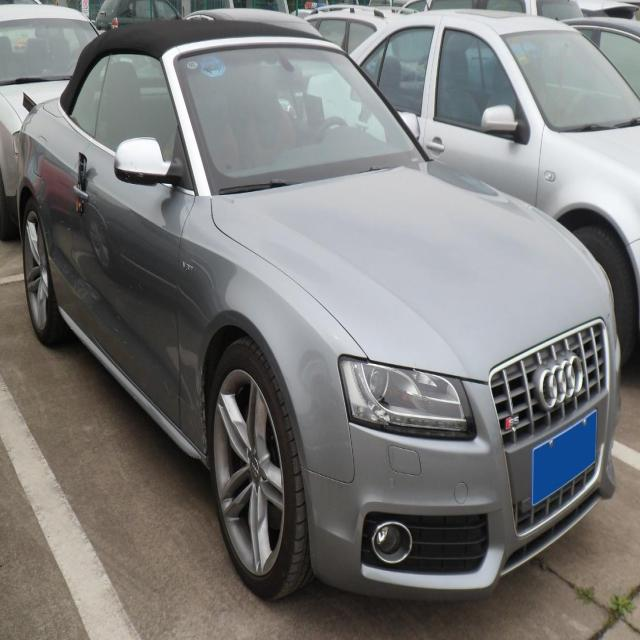Car: (17, 37, 615, 609)
